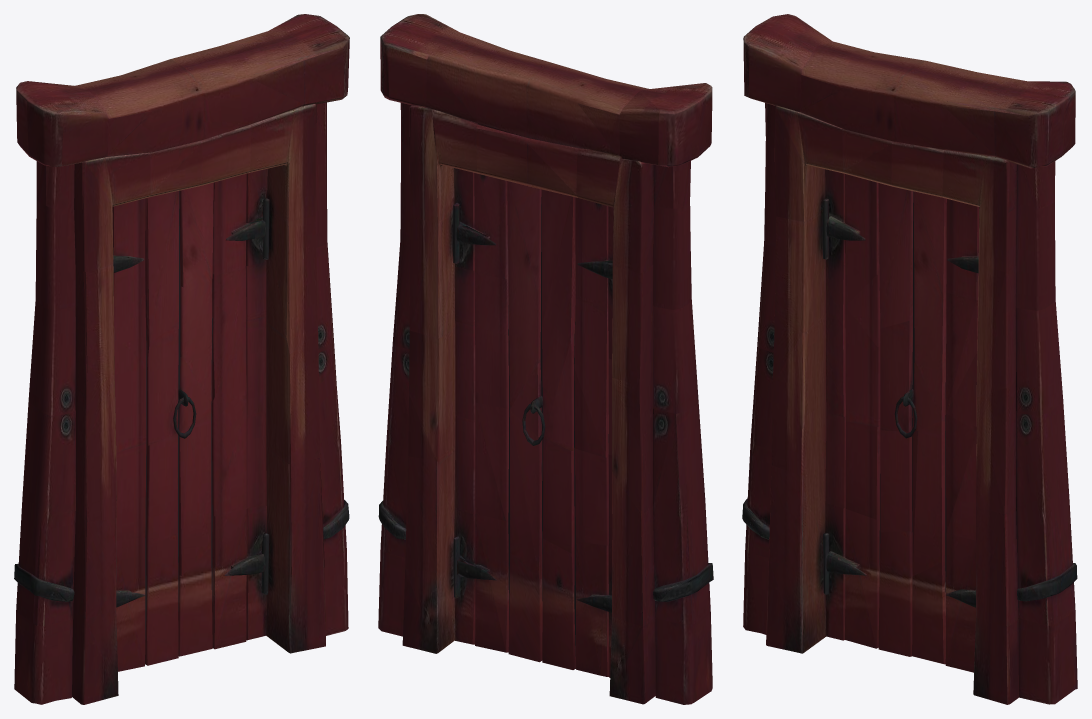
The model's file is door.glb.
3 views of the same model, side by side, from view 1: azimuth 30°, elevation 25°; view 2: azimuth 150°, elevation 25°; view 3: azimuth 330°, elevation 25° (orthographic).
Size of the model in its own units: 1.3 by 2.35 by 0.33.
Materials: 1 (1 with a texture image).
